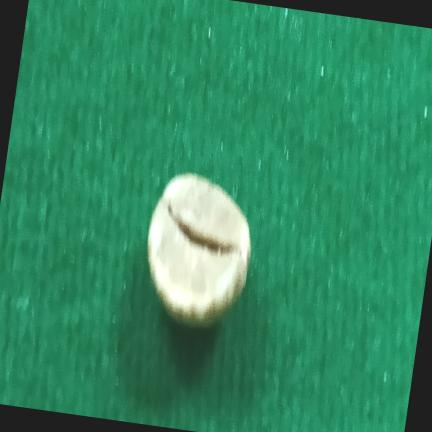good: (147, 173, 250, 326)
